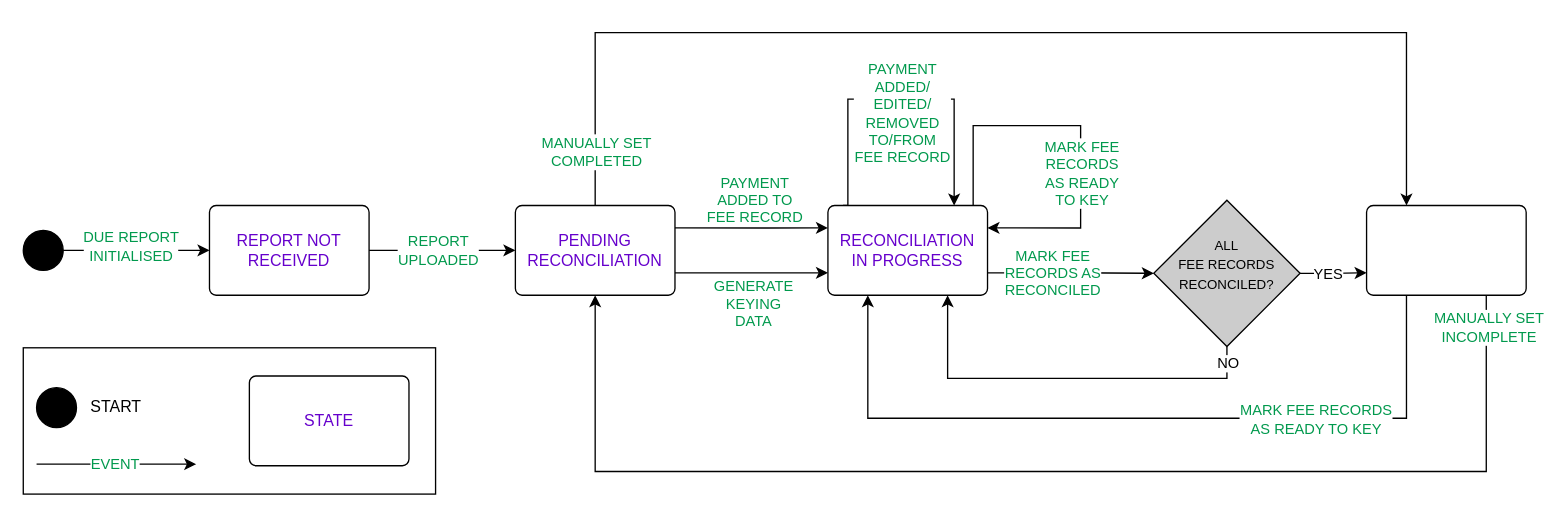
Image size: 1567x517. Some labels were removed from this diagram. Here are the shapes that lost their labels. From the top down, the box of each, then its label:
(1365, 204, 1526, 295): RECONCILIATION COMPLETED
(22, 346, 436, 494): KEY
